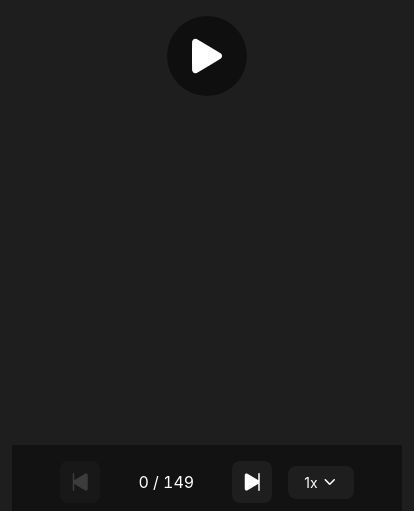
Test case: VideoPlayer › frame controls interaction › should navigate to next frame
The image size is (414, 511).
Click the button with test id "frame-controls-next".
click(252, 482)  # box left=232, top=461, right=272, bottom=503
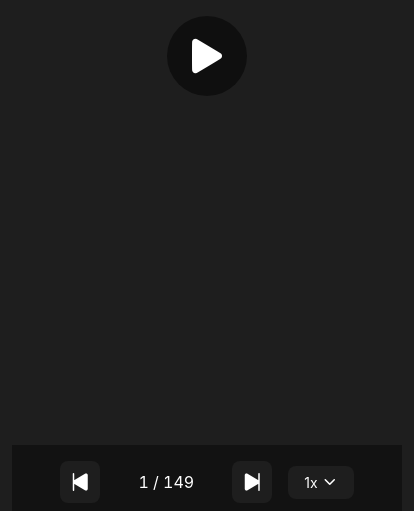
Result: the text "1 / 149" is shown at left=138, top=472, right=194, bottom=492
